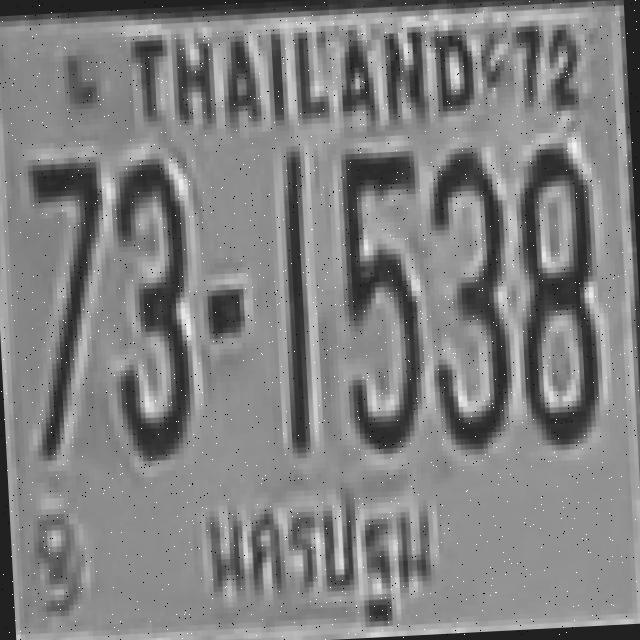3: (102, 155, 196, 460), (418, 149, 510, 449)
7: (26, 156, 108, 338)
8: (509, 142, 597, 442)
NakhonPathom: (192, 472, 444, 632)
